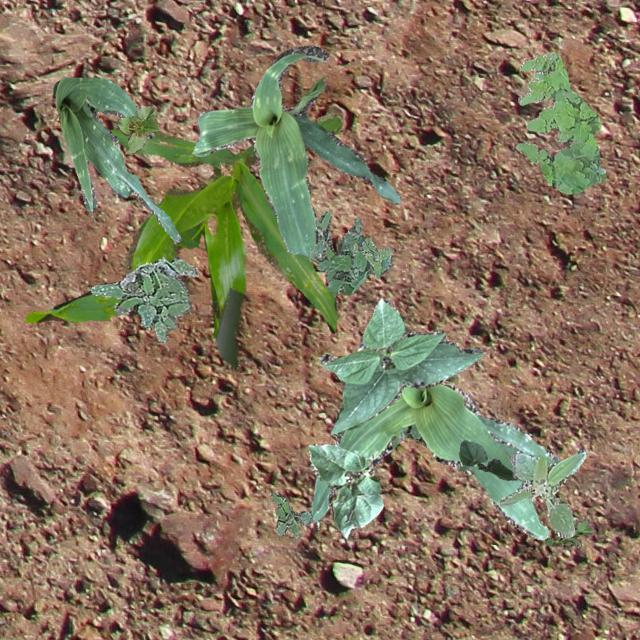crop: (23, 114, 340, 368), (190, 44, 400, 260), (308, 382, 558, 538), (318, 297, 484, 433), (52, 76, 180, 242), (306, 443, 382, 538), (458, 439, 516, 478), (114, 104, 158, 154)
weed: (514, 51, 604, 192), (90, 256, 198, 342), (498, 448, 584, 538), (313, 210, 392, 294), (268, 492, 310, 538), (351, 235, 392, 278), (544, 518, 594, 546)
